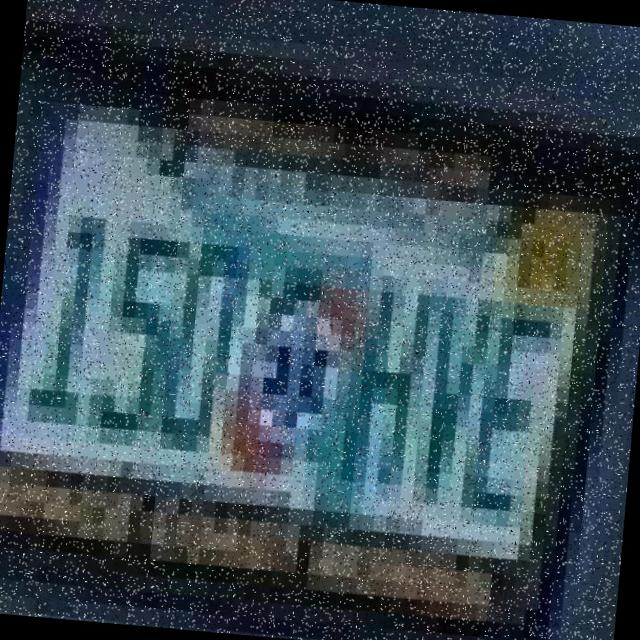LicensePlate: (0, 66, 625, 640)
